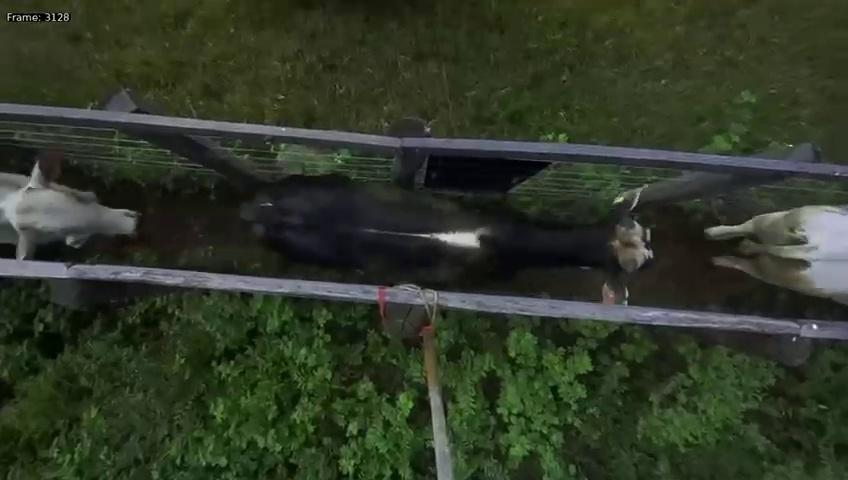cattle: (228, 174, 660, 310)
